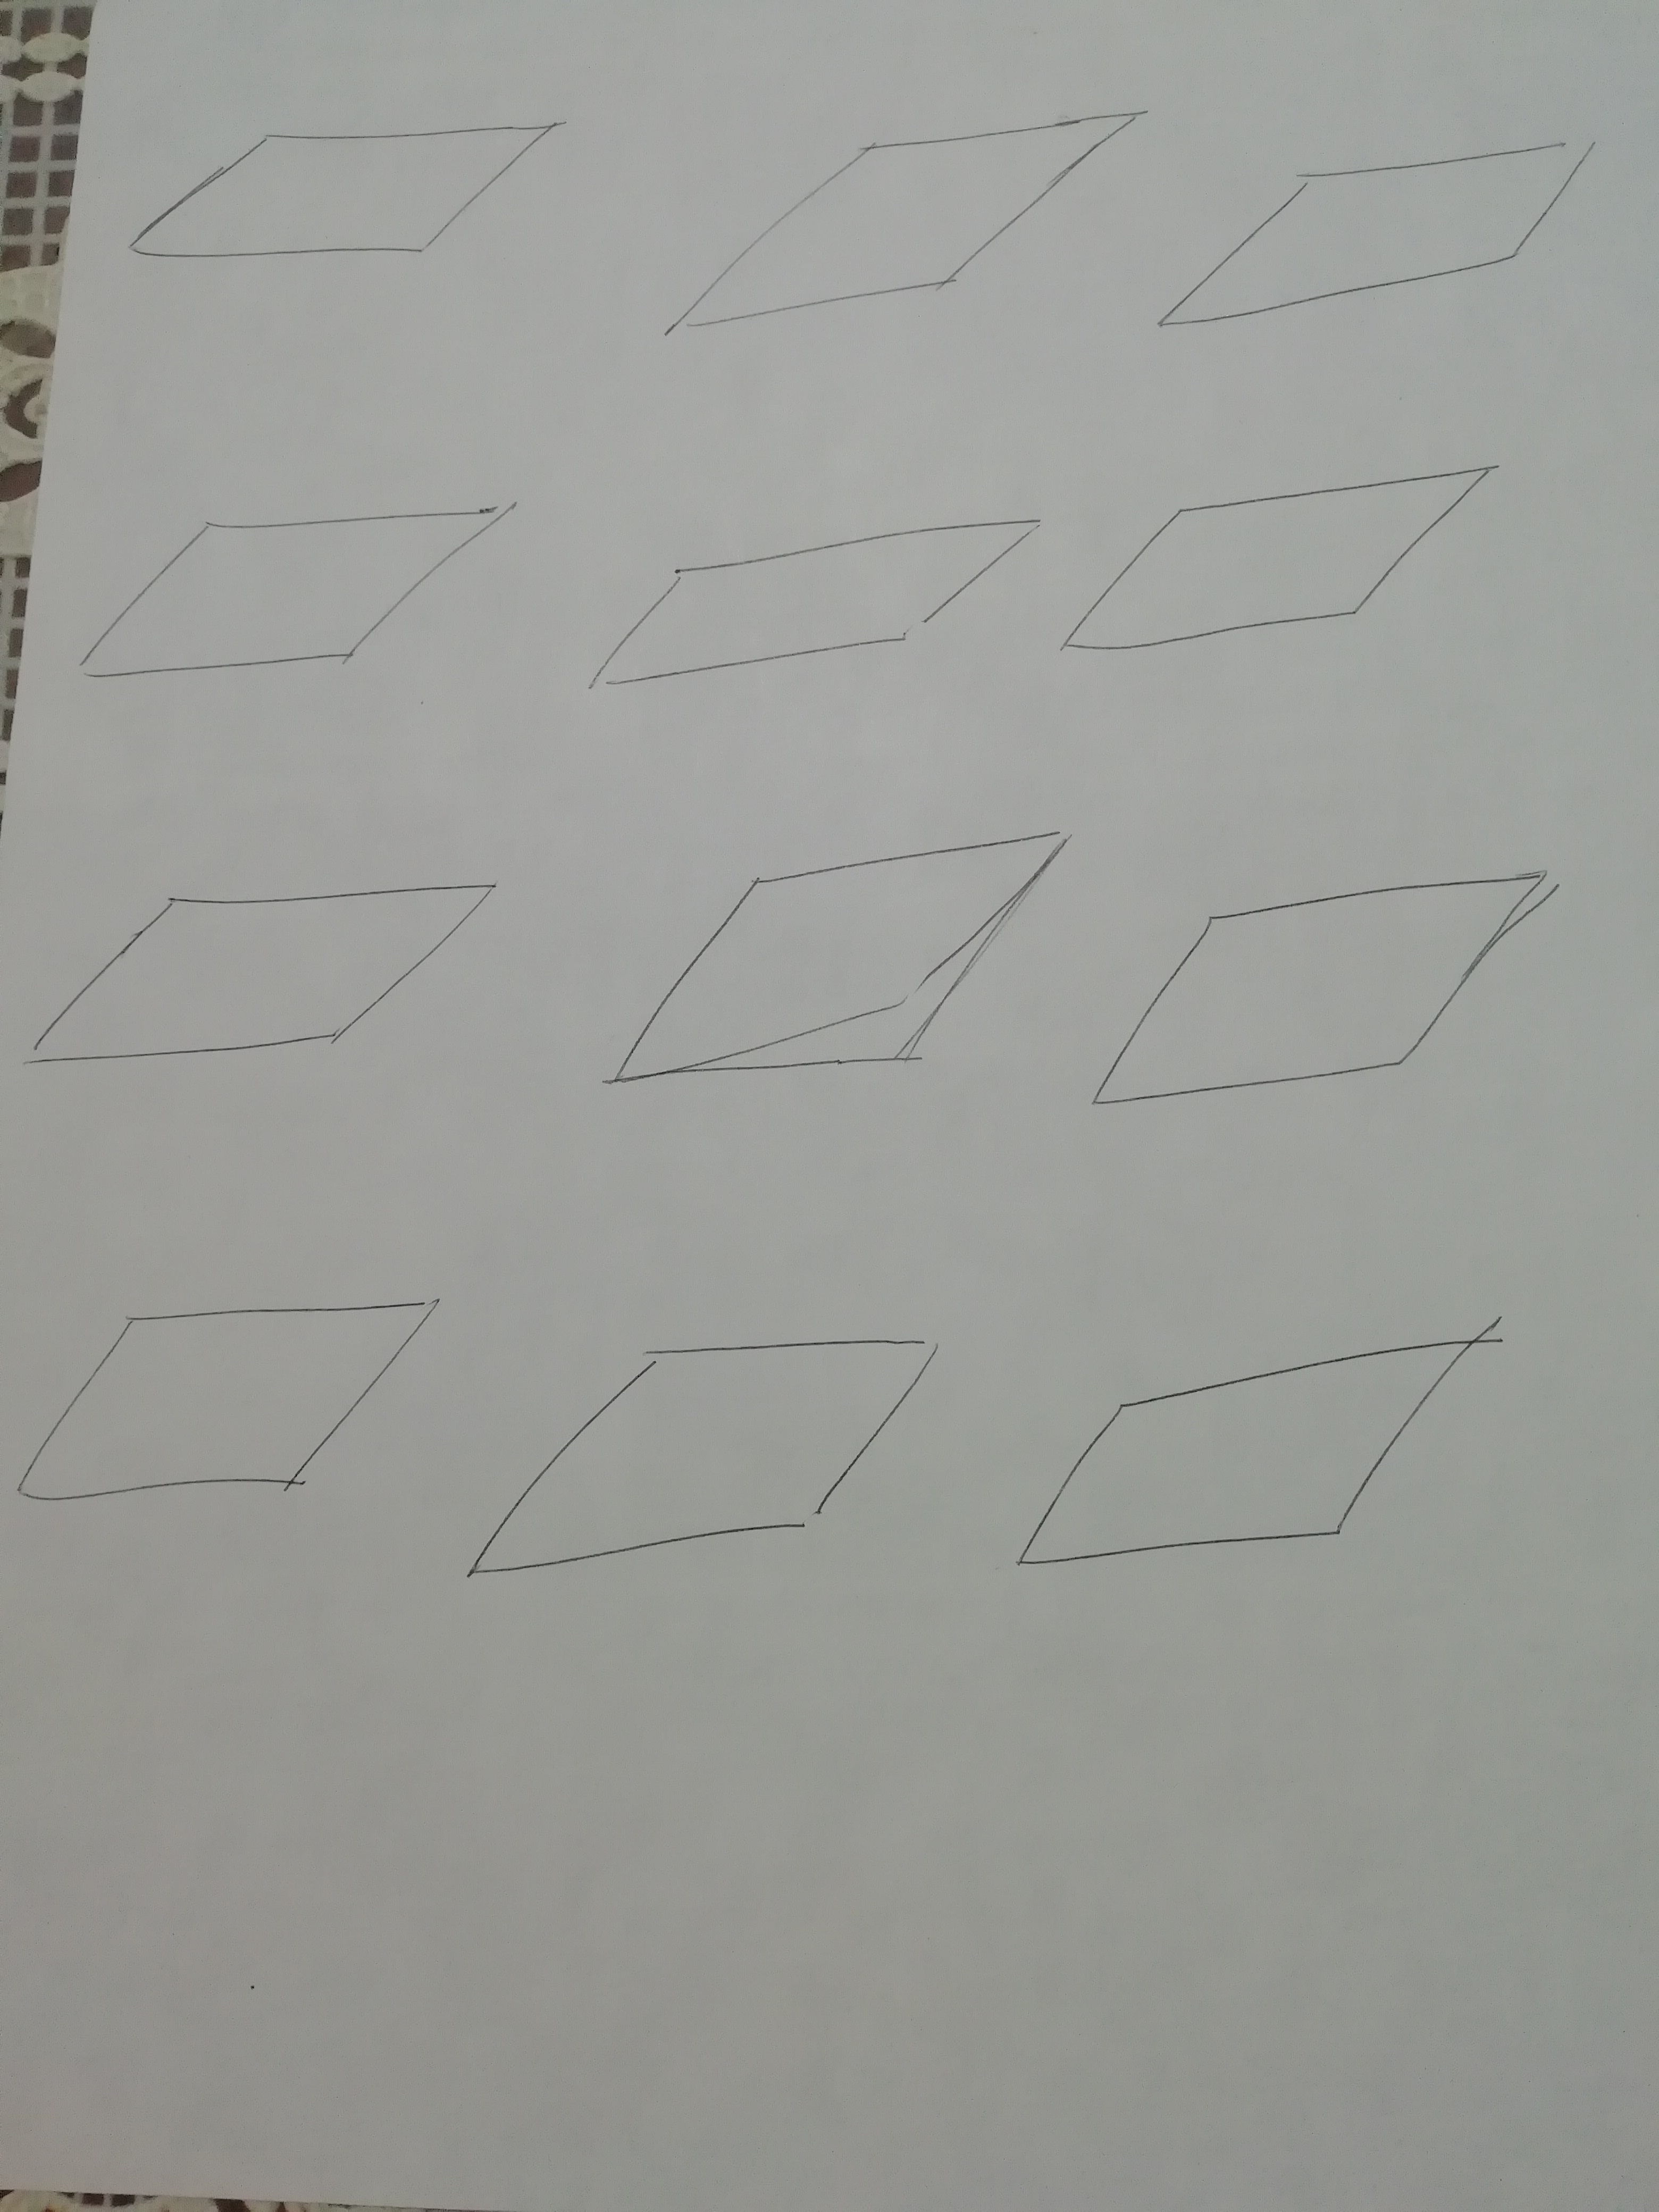scan: (995, 1291, 1527, 1615), (457, 1287, 969, 1622), (592, 808, 1086, 1113), (1089, 841, 1595, 1134), (2, 1266, 457, 1588), (14, 829, 511, 1122), (605, 94, 1148, 348), (49, 484, 532, 730), (1054, 448, 1502, 709), (1152, 111, 1628, 354), (579, 496, 1042, 705), (99, 94, 566, 294)
